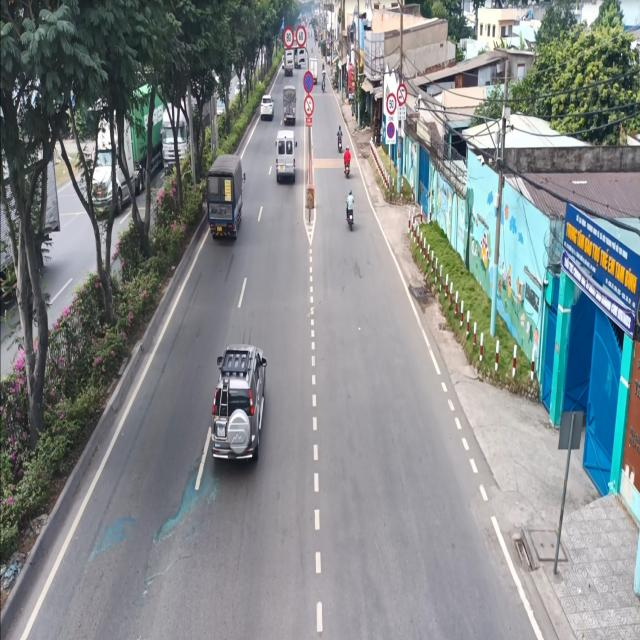car: (202, 336, 273, 468), (272, 126, 300, 188), (261, 90, 277, 118)
motorbike: (344, 190, 357, 229)
truck: (204, 145, 244, 239), (281, 78, 298, 125)
